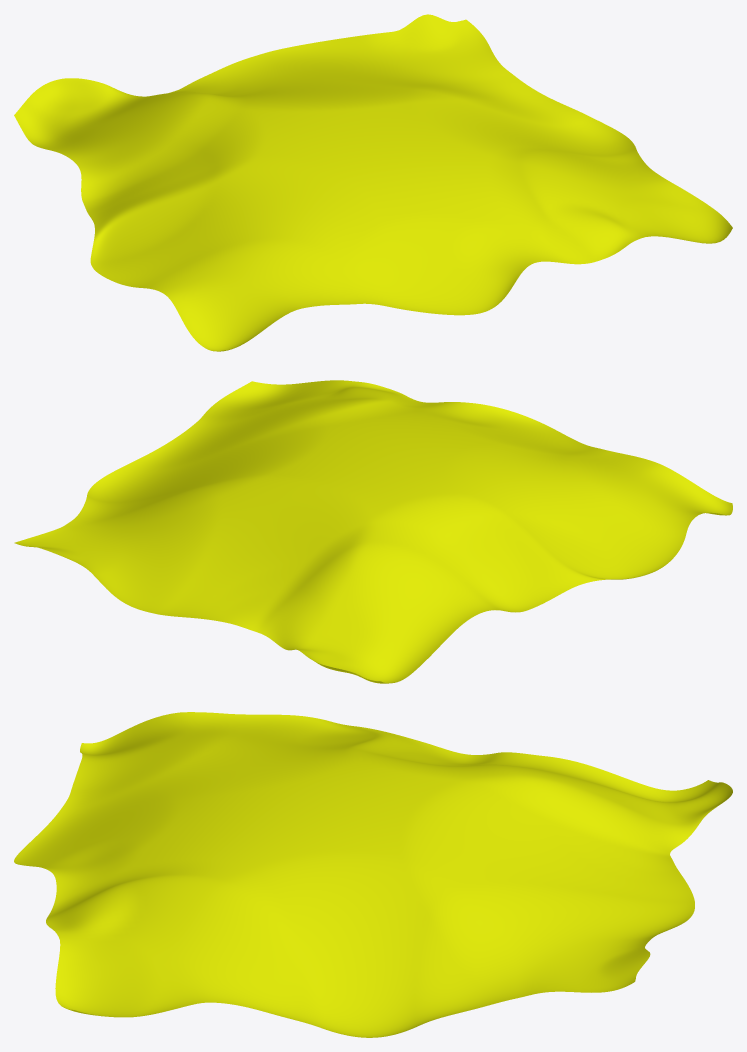
The model's file is beach7.glb.
The picture shows the model from 3 angles, top to bottom: view 1: azimuth 30°, elevation 25°; view 2: azimuth 150°, elevation 25°; view 3: azimuth 270°, elevation 25°; orthographic projection. The views are drawn at different scales.
Parts seen in each view (by area): view 1: Plane; view 2: Plane; view 3: Plane.
Part boxes in pixels (x1,y1,x2,y2): Plane: (14, 14, 732, 351); Plane: (14, 380, 732, 683); Plane: (14, 712, 732, 1037).
Bounding box in the file's own units: 101 × 13.91 × 104.
